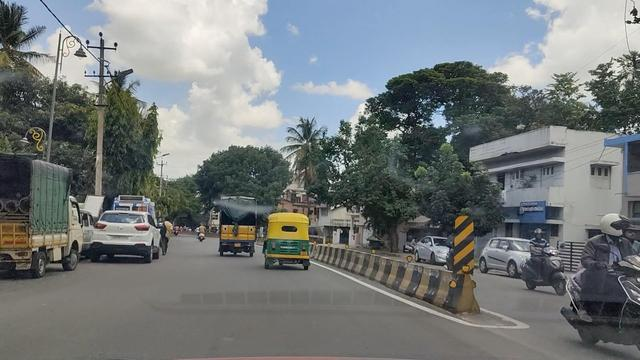HMV: (223, 201, 252, 252)
LMV: (92, 208, 157, 264), (265, 214, 306, 263)
